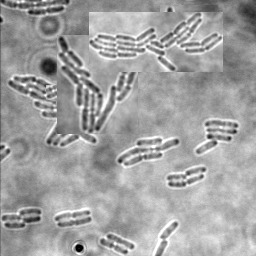Dividing: (167, 175, 204, 189), (99, 238, 128, 255), (54, 209, 90, 222), (56, 217, 92, 228), (27, 7, 64, 17)
Microcolony: (89, 12, 223, 72), (57, 35, 138, 134), (7, 76, 98, 147), (160, 5, 218, 39), (117, 137, 180, 168), (195, 120, 238, 155), (1, 208, 42, 229)
Rod: (106, 233, 135, 251), (157, 222, 178, 240), (46, 85, 70, 100), (184, 167, 206, 177), (166, 174, 187, 183)
